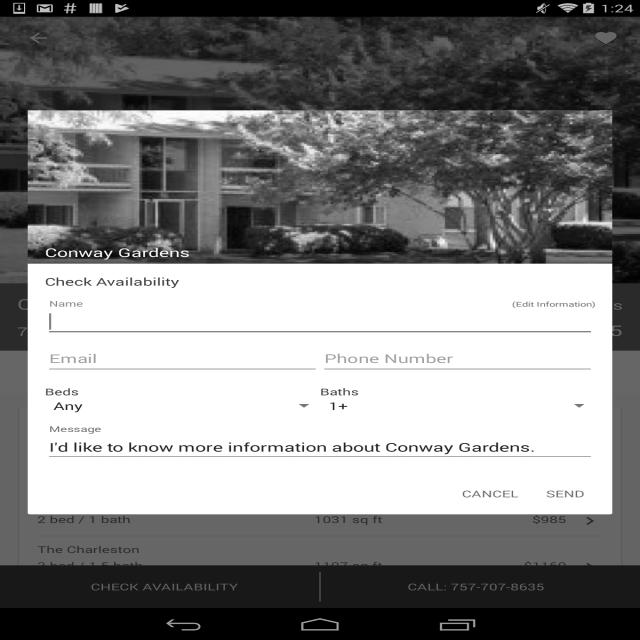Button: (449, 476, 531, 512), (531, 476, 600, 512)
EditText: (45, 307, 595, 337), (45, 432, 595, 462), (45, 344, 320, 375), (320, 344, 595, 375)
ImageView: (28, 110, 612, 264)
Spinner: (44, 398, 314, 414), (320, 398, 590, 414)
TextView: (45, 244, 595, 260), (45, 274, 595, 289), (45, 399, 298, 413), (320, 399, 573, 413), (512, 299, 595, 309), (320, 385, 359, 398), (45, 385, 79, 398)
